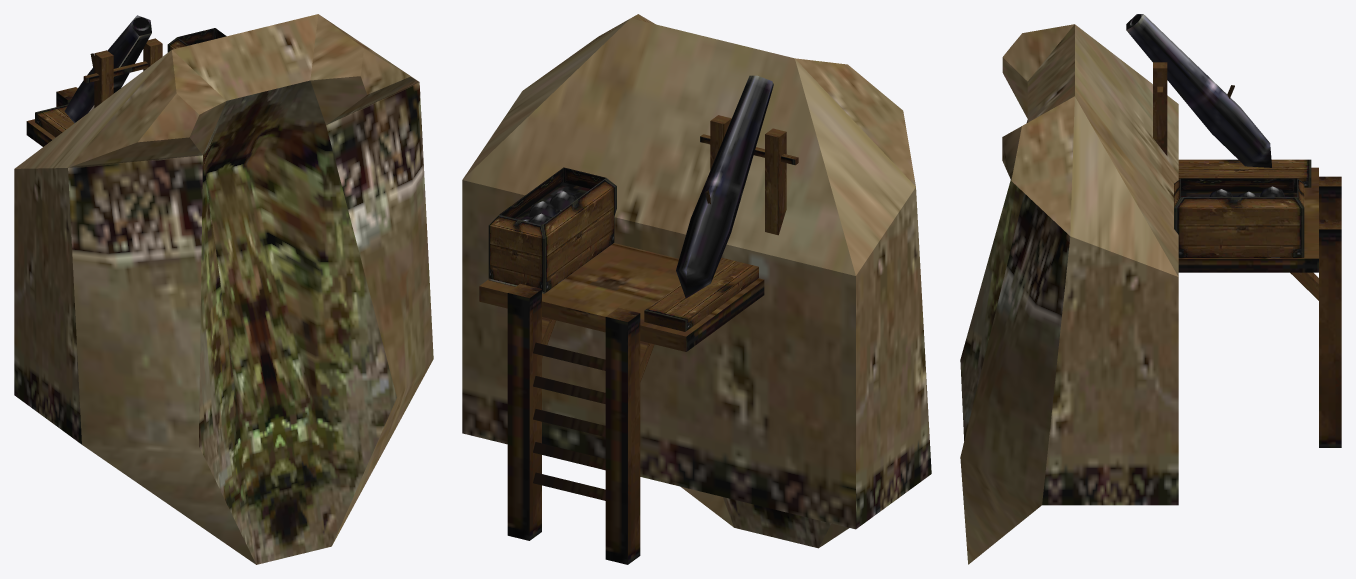
The picture shows the model from 3 angles, left to right: view 1: azimuth 30°, elevation 25°; view 2: azimuth 150°, elevation 25°; view 3: azimuth 270°, elevation 25°; orthographic projection. The views are drawn at different scales.
Visible parts, largest first — view 1: StoneMuWall04; view 2: StoneMuWall04; view 3: StoneMuWall04.
Part boxes in pixels (x1,y1,x2,y2): StoneMuWall04: (14, 14, 433, 564); StoneMuWall04: (462, 14, 931, 564); StoneMuWall04: (960, 14, 1341, 564).
Bounding box in the file's own units: 300 × 403 × 279.
